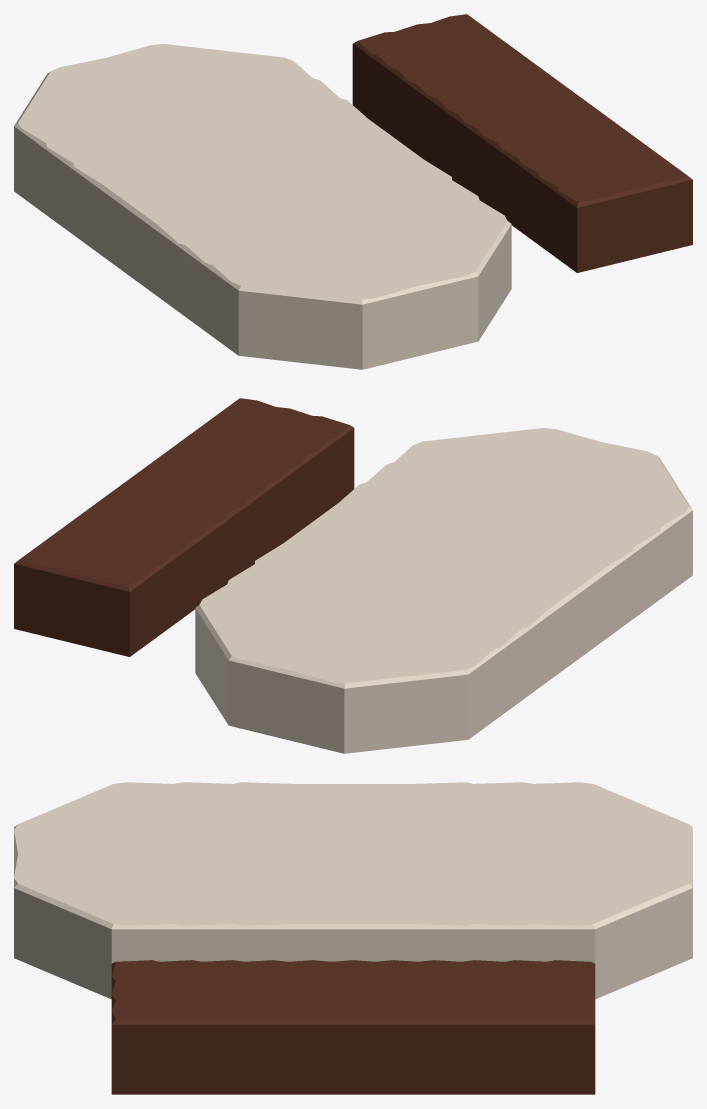
The model's file is mahsulot.glb.
3 renders of one model, top to bottom at view 1: azimuth 30°, elevation 25°; view 2: azimuth 150°, elevation 25°; view 3: azimuth 270°, elevation 25°, orthographic. The views are drawn at different scales.
Parts seen in each view (by area): view 1: mahsulot_A, mahsulot_B; view 2: mahsulot_A, mahsulot_B; view 3: mahsulot_A, mahsulot_B.
Boxes of the visible parts, x1=… form: mahsulot_A: x1=14, y1=44, x2=511, y2=369; mahsulot_B: x1=352, y1=14, x2=692, y2=272; mahsulot_A: x1=195, y1=428, x2=692, y2=753; mahsulot_B: x1=14, y1=398, x2=354, y2=656; mahsulot_A: x1=14, y1=782, x2=692, y2=999; mahsulot_B: x1=111, y1=960, x2=595, y2=1094.
Size of the model in its own units: 0.208 by 0.03 by 0.25.
